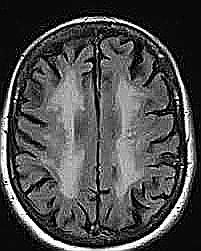Normal_Brain: (17, 1, 201, 251)
